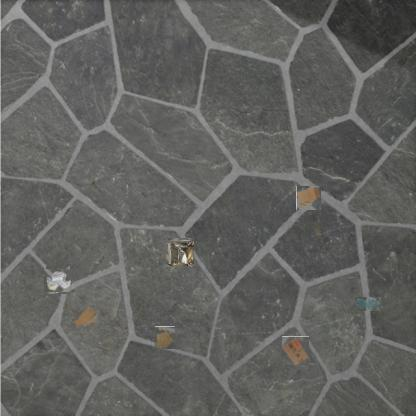dirty: (281, 336, 309, 365), (168, 240, 194, 266), (45, 267, 71, 293), (72, 306, 100, 330), (296, 186, 321, 210)
liquid: (155, 326, 175, 349), (355, 297, 381, 311)
